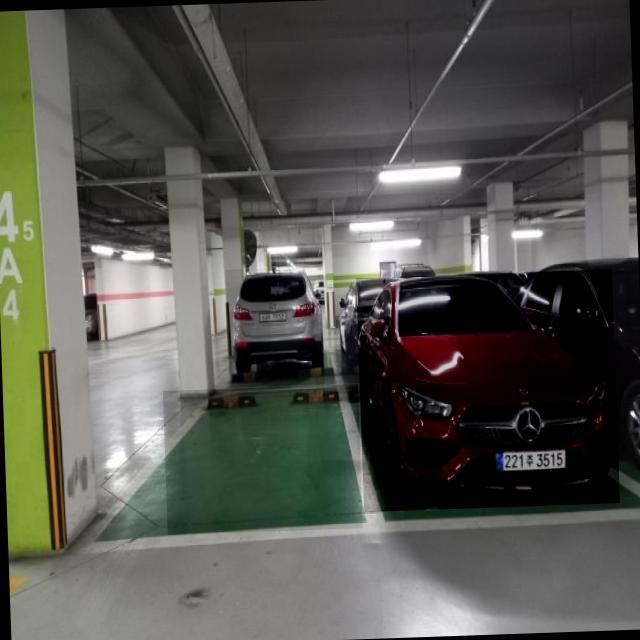empty: (162, 384, 362, 534)
occupied: (356, 268, 620, 512), (225, 266, 324, 387)
